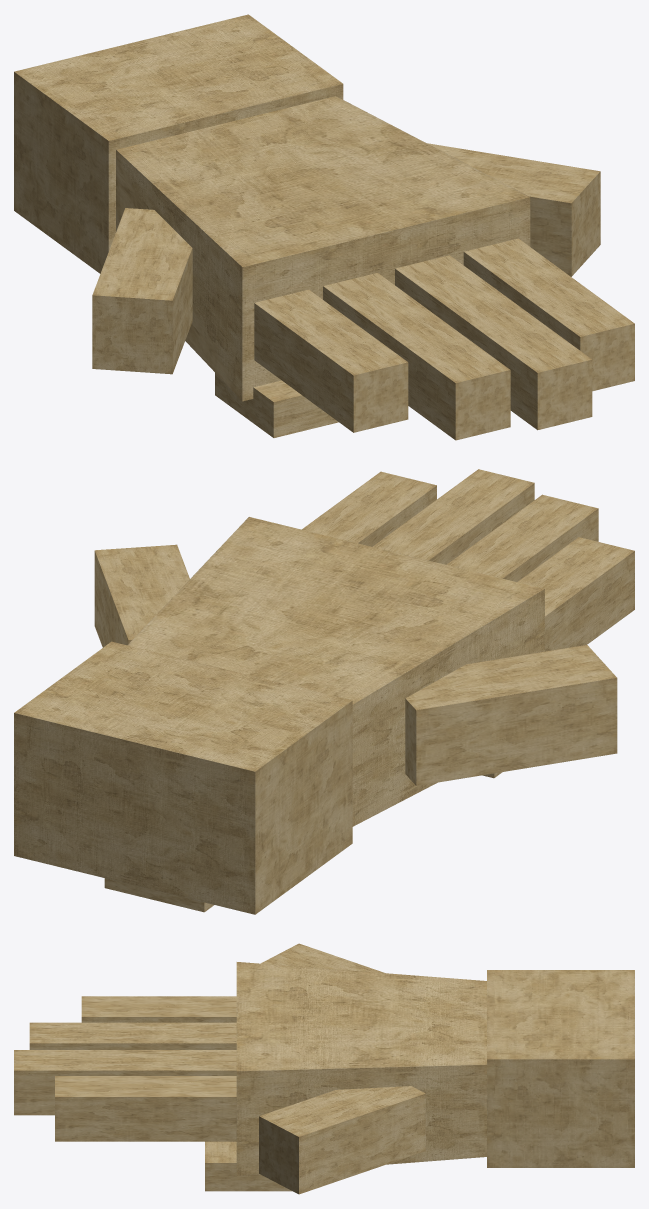
Rendered from CHR_HAND_P2_001.obj.
3 renders of one model, top to bottom at view 1: azimuth 30°, elevation 25°; view 2: azimuth 150°, elevation 25°; view 3: azimuth 270°, elevation 25°, orthographic. The views are drawn at different scales.
Parts seen in each view (by area): view 1: Left_Palm, Left_Cuff, Left_Finger_3, Left_Finger_1, Left_Finger_2, Left_Thumb, Left_Finger_4, Right_Thumb, Left_KnucklePad; view 2: Left_Cuff, Left_Palm, Left_Thumb, Left_Finger_1, Left_Finger_3, Right_Thumb, Left_Finger_2, Left_Finger_4, Left_SquarePlayerBadge; view 3: Left_Palm, Left_Cuff, Right_Thumb, Left_Finger_4, Left_Finger_3, Left_Finger_2, Left_Finger_1, Left_KnucklePad, Left_Thumb.
Boxes of the visible parts, box(x1,y1,x2,y2) form: Left_Palm: box(116, 96, 530, 401); Left_Cuff: box(14, 14, 343, 273); Left_Finger_3: box(395, 255, 592, 430); Left_Finger_1: box(254, 289, 408, 432); Left_Finger_2: box(323, 273, 510, 440); Left_Thumb: box(92, 208, 192, 374); Left_Finger_4: box(463, 238, 634, 391); Right_Thumb: box(427, 143, 600, 276); Left_KnucklePad: box(215, 373, 338, 437); Left_Cuff: box(14, 641, 352, 914); Left_Palm: box(127, 517, 544, 826); Left_Thumb: box(405, 645, 617, 785); Left_Finger_1: box(517, 537, 634, 651); Left_Finger_3: box(372, 469, 534, 564); Right_Thumb: box(94, 544, 189, 647); Left_Finger_2: box(446, 494, 598, 581); Left_Finger_4: box(302, 471, 436, 546); Left_SquarePlayerBadge: box(104, 878, 213, 912); Left_Palm: box(236, 962, 486, 1175); Left_Cuff: box(487, 970, 634, 1167); Right_Thumb: box(259, 1086, 425, 1194); Left_Finger_4: box(55, 1076, 236, 1141); Left_Finger_3: box(14, 1050, 236, 1115); Left_Finger_2: box(29, 1022, 236, 1049); Left_Finger_1: box(81, 996, 236, 1022); Left_KnucklePad: box(205, 1141, 292, 1191); Left_Thumb: box(261, 943, 385, 973).
Bounding box in the file's own units: 0.3249 × 0.1025 × 0.4405.
2 materials, 2 textured.
